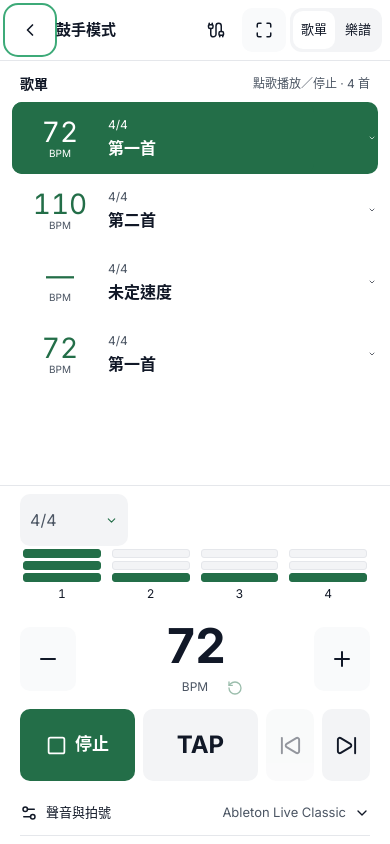
Test: drummer session controls › starts the selected song immediately, including while another song is playing
The image size is (390, 844).
Click the button with aria-label "2 第二首" at {"x": 60, "y": 204}, box [12,174,314,246]
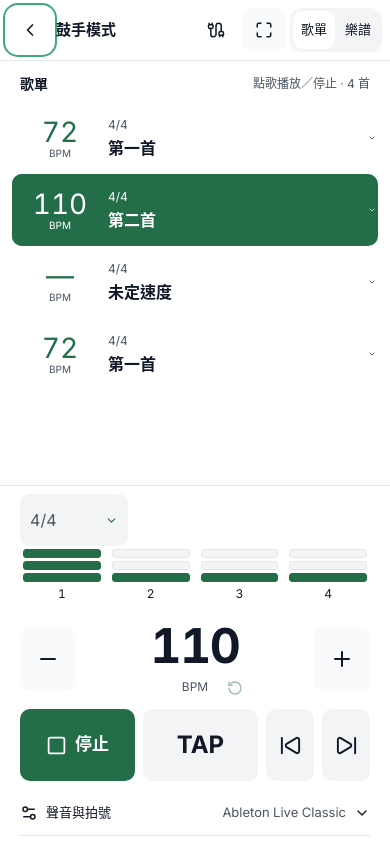
Expected: the field named "節拍器速度 BPM" holds "110", [88,620,302,673]
